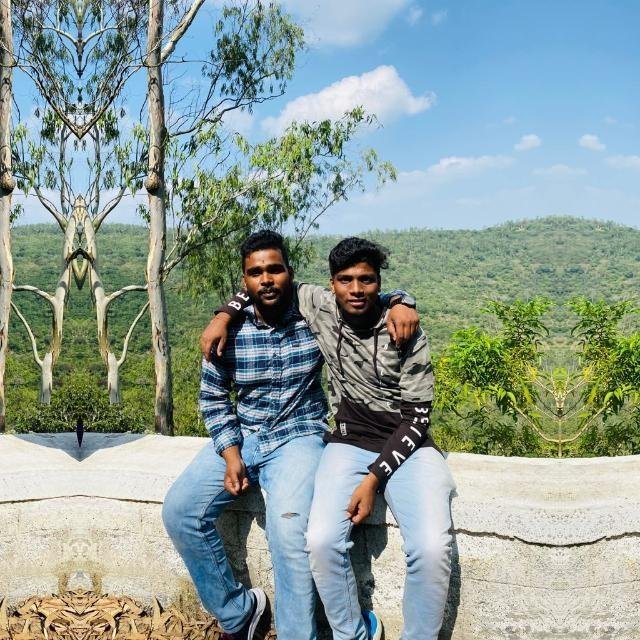person: (294, 238, 468, 626)
